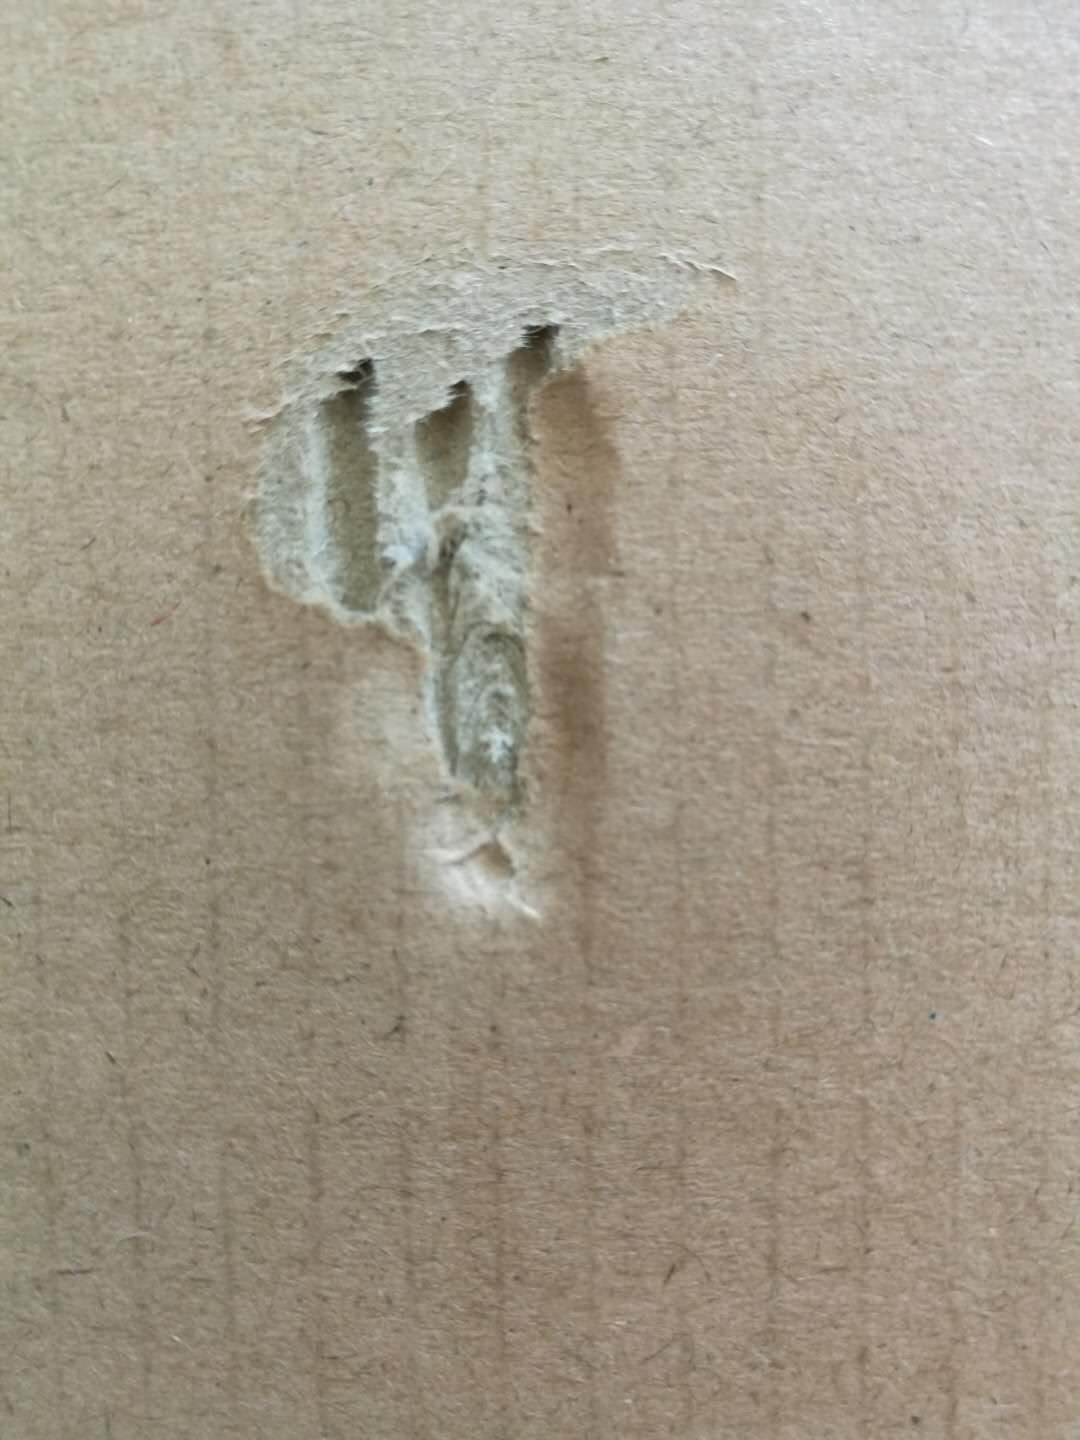defect: (180, 167, 779, 1025)
